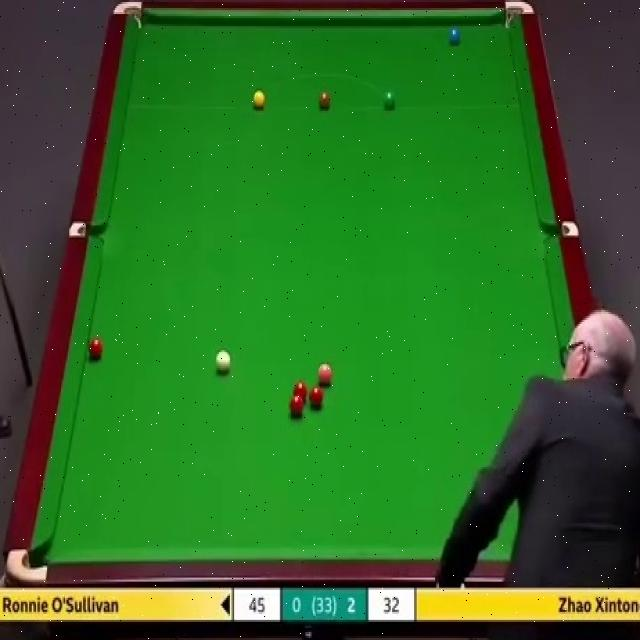blue-ball: (448, 24, 461, 44)
brown-ball: (318, 93, 331, 109)
green-ball: (382, 89, 397, 112)
pink-ball: (317, 362, 332, 386)
red-ball: (289, 394, 305, 416), (310, 387, 325, 408), (294, 380, 307, 404), (89, 337, 102, 360)
white-ball: (215, 349, 230, 372)
yellow-ball: (252, 90, 266, 110)
